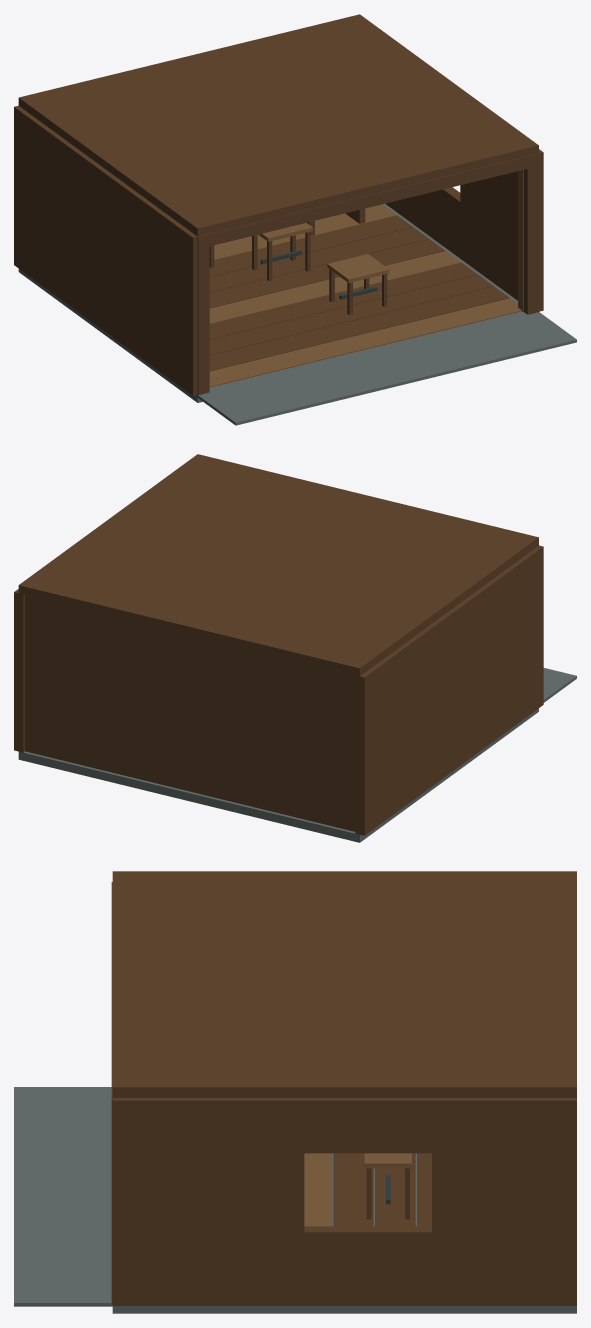
File: shop-interior-probe.glb
The picture shows the model from 3 angles, top to bottom: view 1: azimuth 30°, elevation 25°; view 2: azimuth 150°, elevation 25°; view 3: azimuth 270°, elevation 25°; orthographic projection. The views are drawn at different scales.
Visible parts, largest first — view 1: shell_ceiling, shell_left_wall, exterior_apron, shell_right_wall, shell_front_wall, deck_board_00, deck_board_01, deck_board_02, deck_board_03, deck_board_04, deck_board_06, deck_board_05 (+5 smaller); view 2: shell_ceiling, shell_back_wall, shell_left_wall, shell_floor, shell_right_wall, exterior_apron; view 3: shell_ceiling, shell_right_wall, exterior_apron, shell_floor, deck_board_05, deck_board_06, deck_board_04, deck_board_07, shell_front_wall, cuff_display_top.
Part boxes in pixels (bbox=[...]): shell_ceiling: bbox=[18, 14, 538, 236]; shell_left_wall: bbox=[14, 105, 197, 395]; exterior_apron: bbox=[196, 312, 576, 425]; shell_right_wall: bbox=[385, 149, 543, 311]; shell_front_wall: bbox=[197, 153, 539, 395]; deck_board_00: bbox=[209, 298, 521, 387]; deck_board_01: bbox=[209, 286, 509, 371]; deck_board_02: bbox=[209, 274, 493, 355]; deck_board_03: bbox=[209, 263, 477, 339]; deck_board_04: bbox=[209, 251, 461, 323]; deck_board_06: bbox=[209, 227, 428, 292]; deck_board_05: bbox=[209, 239, 445, 308]; shell_ceiling: bbox=[18, 454, 538, 676]; shell_back_wall: bbox=[25, 595, 355, 831]; shell_left_wall: bbox=[355, 545, 543, 835]; shell_floor: bbox=[18, 708, 538, 842]; shell_right_wall: bbox=[14, 589, 24, 752]; exterior_apron: bbox=[543, 668, 576, 702]; shell_ceiling: bbox=[112, 871, 576, 1097]; shell_right_wall: bbox=[112, 1098, 576, 1305]; exterior_apron: bbox=[14, 1087, 118, 1306]; shell_floor: bbox=[112, 1153, 576, 1313]; deck_board_05: bbox=[333, 1153, 373, 1226]; deck_board_06: bbox=[375, 1153, 415, 1226]; deck_board_04: bbox=[304, 1153, 331, 1226]; deck_board_07: bbox=[417, 1153, 431, 1226]; shell_front_wall: bbox=[111, 882, 112, 1302]; cuff_display_top: bbox=[364, 1153, 411, 1168].
Bounding box in the file's own units: 9.04 × 4.3 × 9.7.
